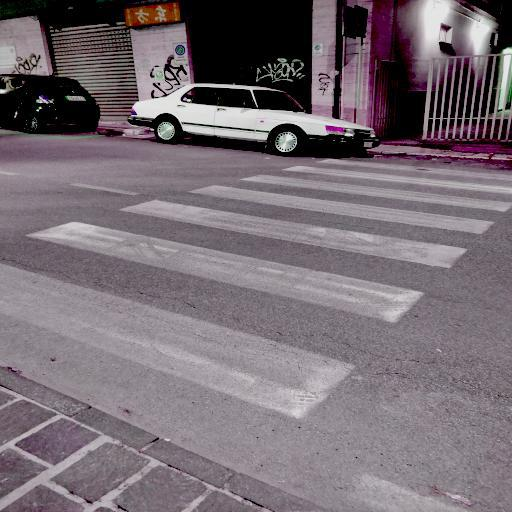crosswalk: (17, 195, 473, 327)
